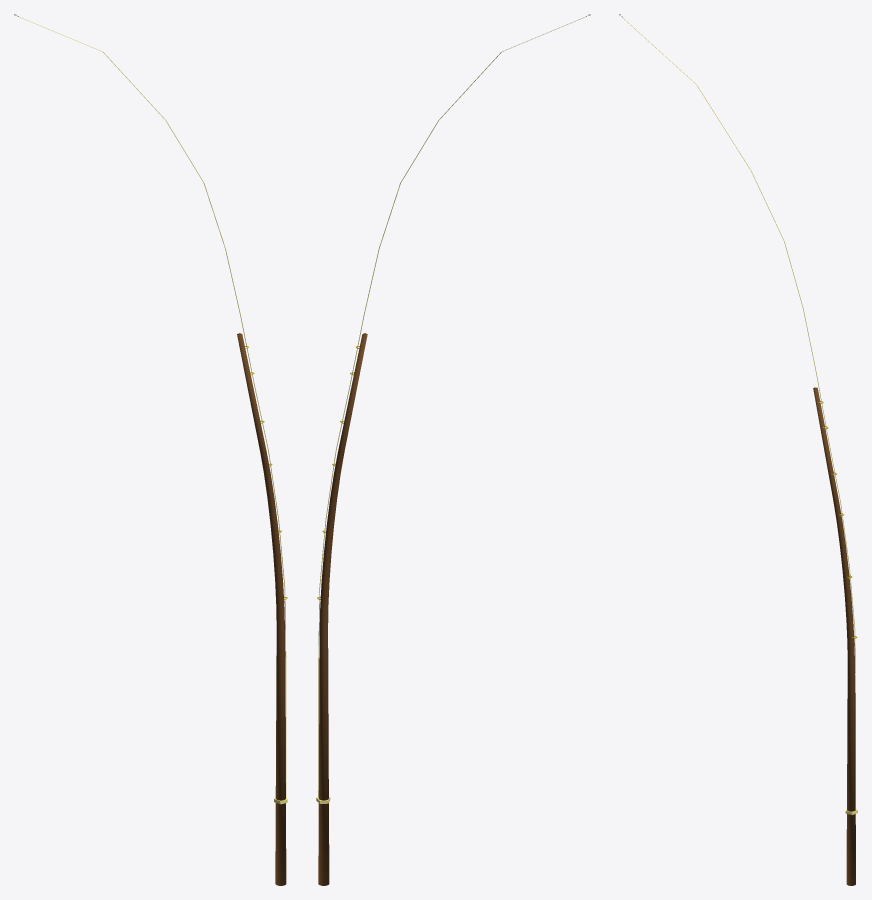
Rendered from Fishing Can.fbx.
3 views of the same model, side by side, from view 1: azimuth 30°, elevation 25°; view 2: azimuth 150°, elevation 25°; view 3: azimuth 330°, elevation 25° (orthographic). The views are drawn at different scales.
Parts seen in each view (by area): view 1: Fishing Can; view 2: Fishing Can; view 3: Fishing Can.
Part boxes in pixels (x1,y1,x2,y2): Fishing Can: (14, 14, 287, 885); Fishing Can: (316, 14, 590, 885); Fishing Can: (619, 14, 857, 885).
Size of the model in its own units: 187 by 611 by 7.84.
